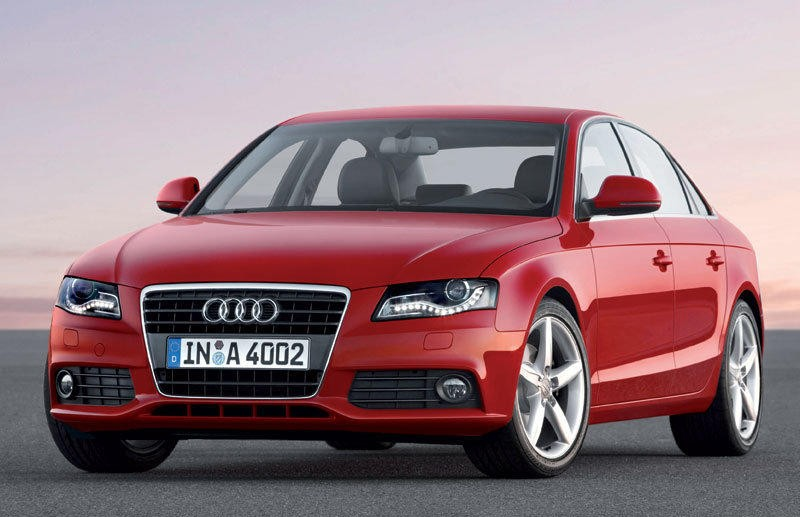audi: (41, 100, 767, 483)
